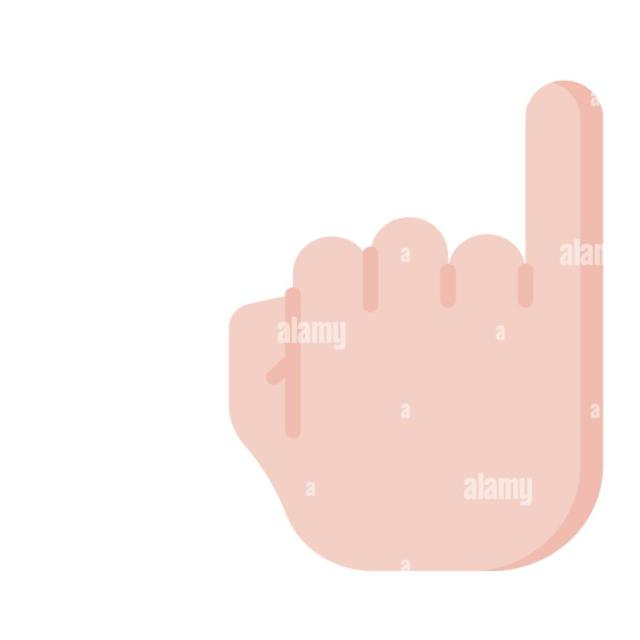pinky: (516, 58, 616, 309)
